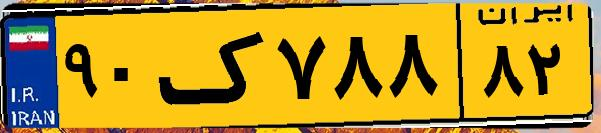0: (110, 28, 158, 98)
2: (525, 38, 570, 115)
7: (270, 28, 330, 110)
8: (385, 28, 445, 110), (330, 28, 385, 110), (475, 38, 525, 113)
9: (57, 26, 110, 100)
ک: (158, 12, 270, 120)
